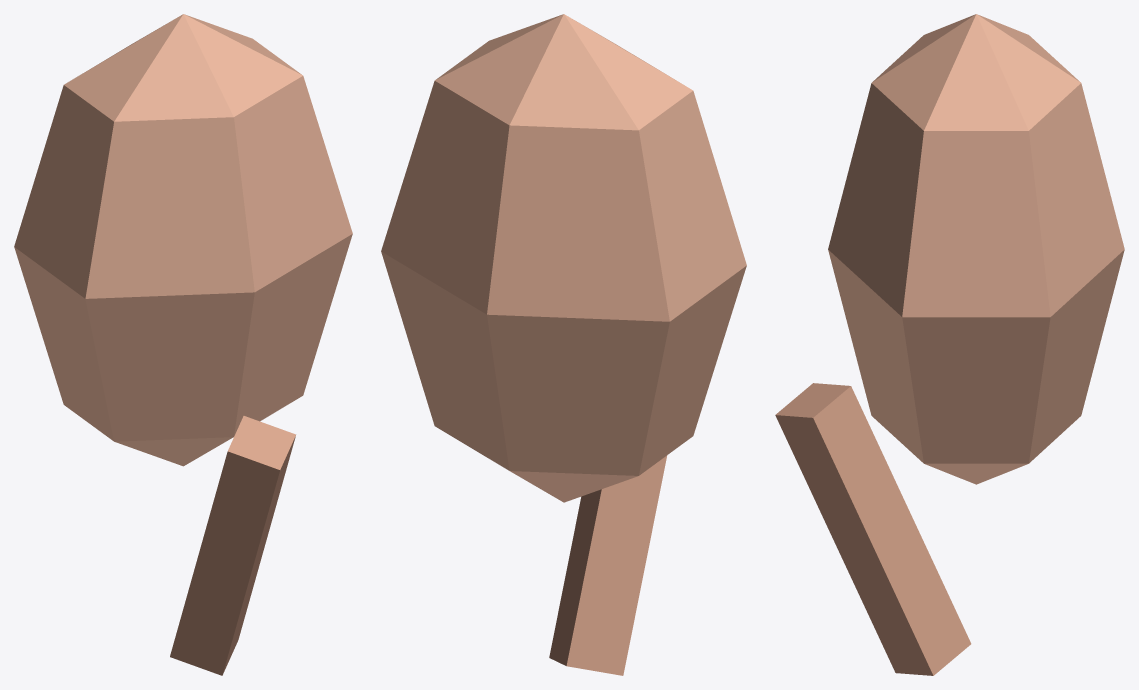
File: hearingAid.fbx
3 views of the same model, side by side, from view 1: azimuth 30°, elevation 25°; view 2: azimuth 150°, elevation 25°; view 3: azimuth 270°, elevation 25° (orthographic). The views are drawn at different scales.
Parts seen in each view (by area): view 1: hearingAid; view 2: hearingAid; view 3: hearingAid.
Boxes of the visible parts, x1,y1,x2,y2 form: hearingAid: (14, 14, 352, 675); hearingAid: (381, 14, 746, 675); hearingAid: (775, 14, 1124, 675).
Bounding box in the file's own units: 0.1247 × 0.2823 × 0.1357.
